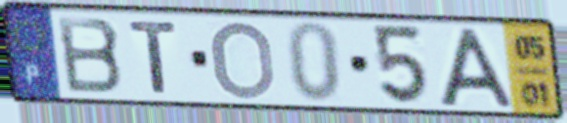0: (284, 18, 348, 107)
5: (369, 22, 433, 109)
A: (436, 25, 519, 111)
B: (53, 13, 127, 96)
O: (209, 18, 278, 102)
T: (126, 19, 181, 96)
